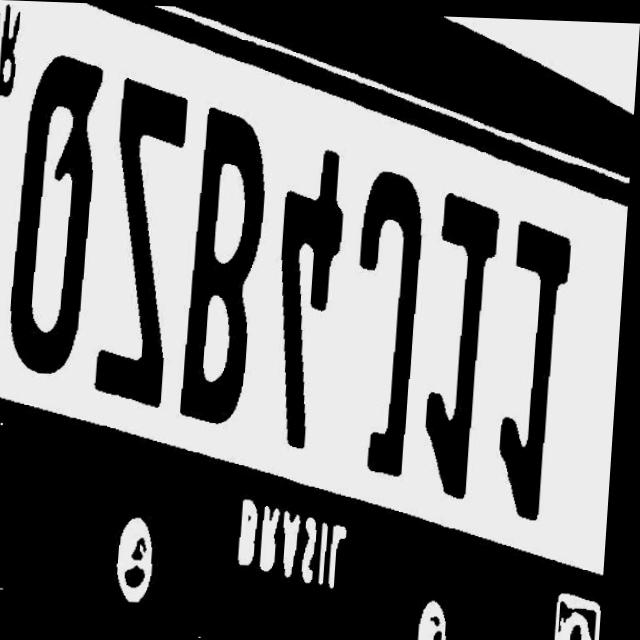1: (490, 214, 585, 521), (422, 183, 511, 502)
4: (266, 136, 357, 452)
b: (178, 102, 272, 428)
j: (344, 164, 430, 481)
q: (7, 48, 112, 381)
z: (95, 71, 196, 414)
